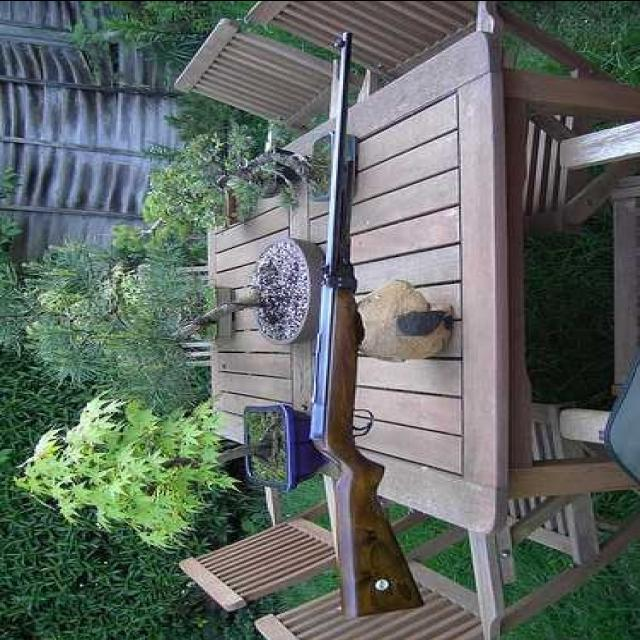heavyweapon: (303, 10, 448, 624)
